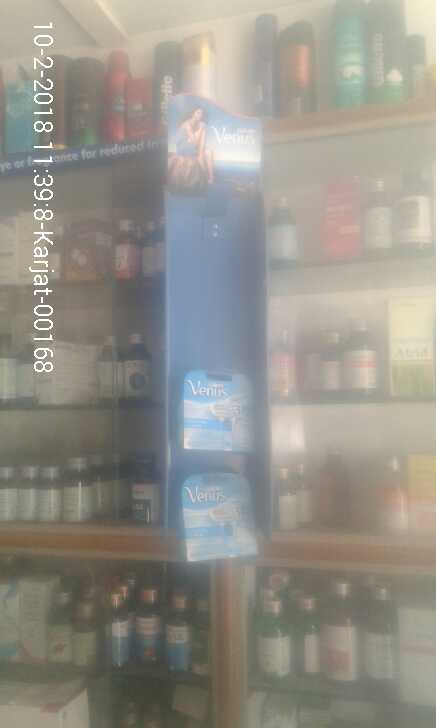venus: (176, 371, 263, 461), (181, 472, 262, 566)
